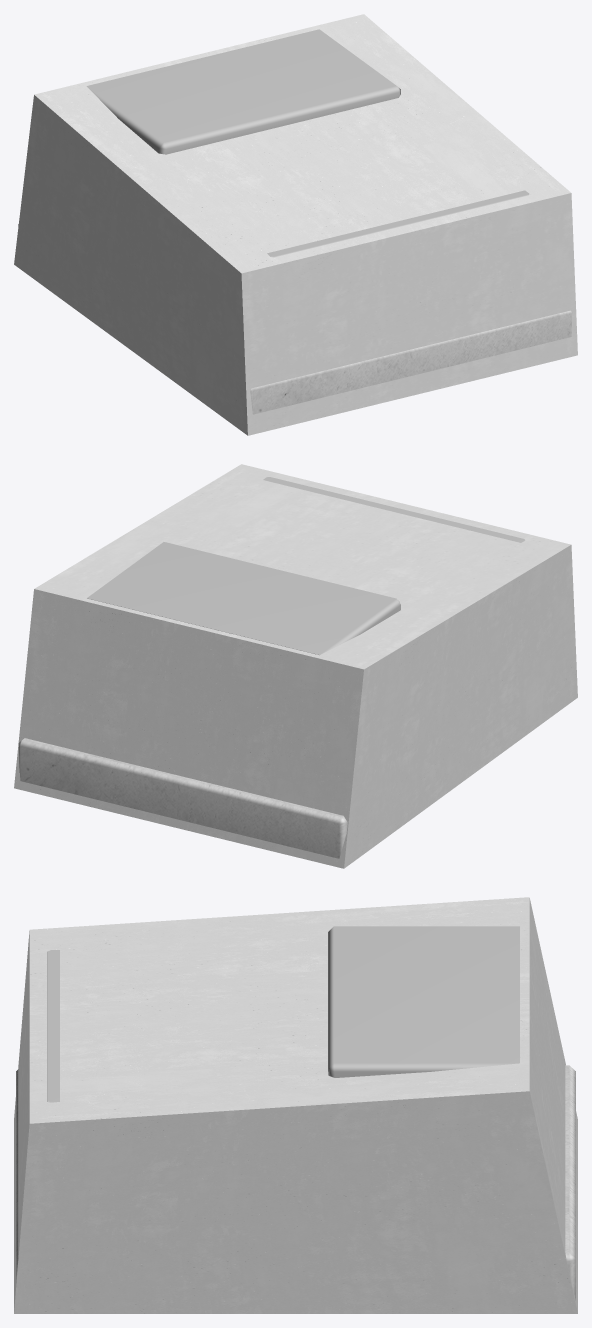
Rendered from si_landlight_b.DAE.
3 views of the same model, one above another, from view 1: azimuth 30°, elevation 25°; view 2: azimuth 150°, elevation 25°; view 3: azimuth 270°, elevation 25° (orthographic). The views are drawn at different scales.
Parts seen in each view (by area): view 1: Colmesh-1, si_landlight_b60; view 2: Colmesh-1, si_landlight_b60; view 3: Colmesh-1, si_landlight_b60, si_landlight_b45.
Part boxes in pixels (left/top/right/bottom): Colmesh-1: left=14, top=14, right=577, bottom=435; si_landlight_b60: left=86, top=29, right=572, bottom=414; Colmesh-1: left=14, top=464, right=577, bottom=868; si_landlight_b60: left=18, top=477, right=525, bottom=858; Colmesh-1: left=14, top=897, right=577, bottom=1313; si_landlight_b60: left=16, top=926, right=575, bottom=1300; si_landlight_b45: left=16, top=1069, right=575, bottom=1258.
Size of the model in its own units: 69.39 by 85.21 by 37.1.
